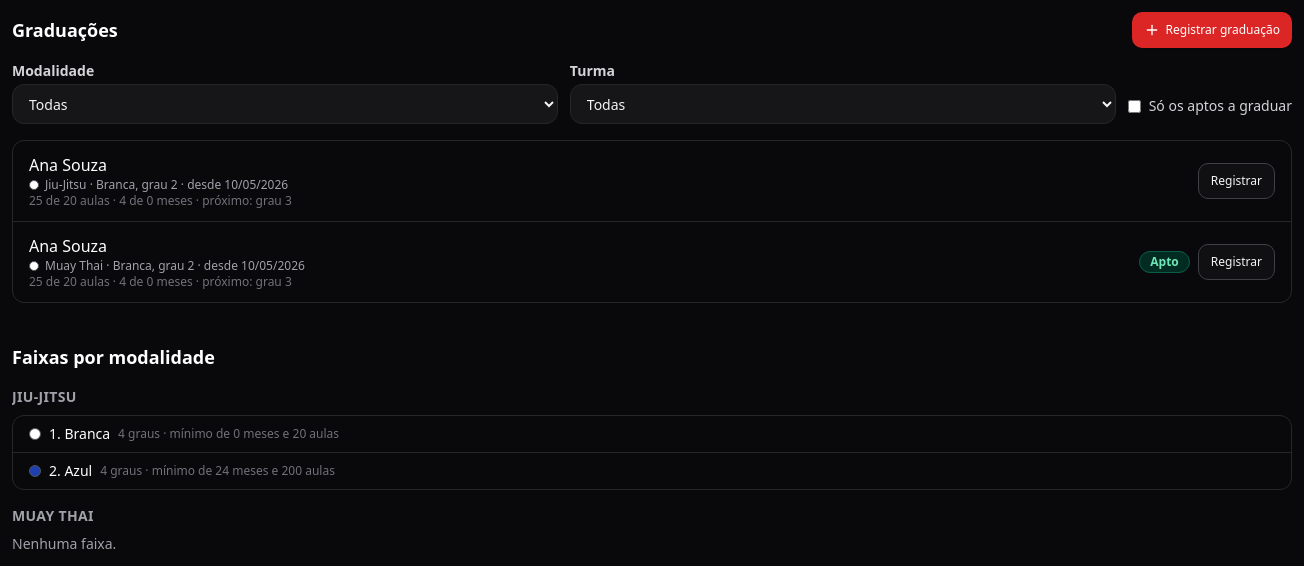
Test case: Painel: graduações › com modalidade em 'Todas', a turma escolhida limita o progresso à modalidade dela
Expected: the list named "Progresso dos alunos" is shown, [12,140,1292,303]
Select "Adulto Noite" in the dropdown labelled "Turma" at (843, 104), box [570,84,1116,124]
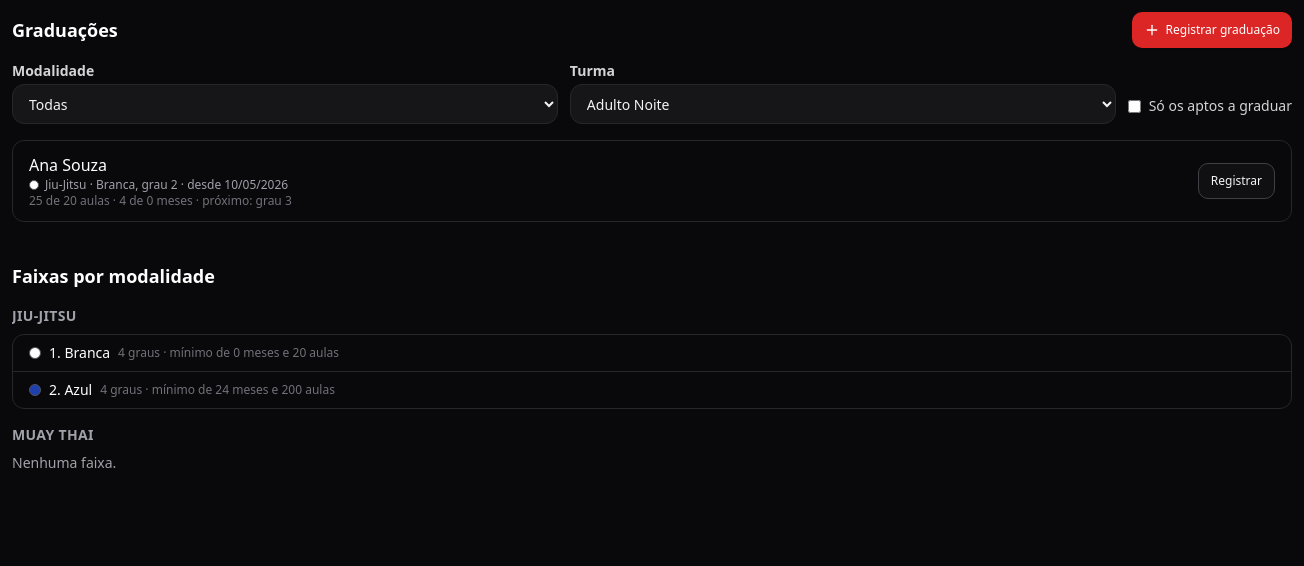
Expected: the list named "Progresso dos alunos" shows "Jiu-Jitsu", [45,176,86,193]
Expected: the list named "Progresso dos alunos" does not show "Muay Thai", [12,140,1292,222]
Note: Só os aptos: Ana não aparece por estar apta em outra modalidade.
Click the checkbox labelled "Só os aptos a graduar".
click(1134, 106)  # box [1128,100,1141,112]
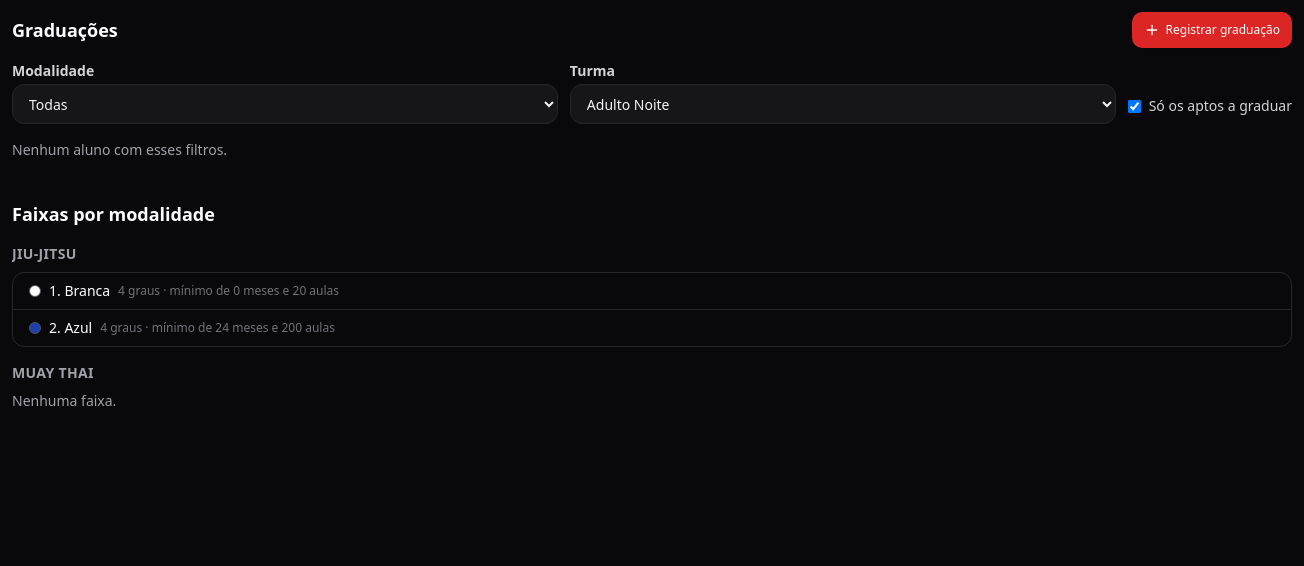
Expected: the text "Nenhum aluno com esses filtros." is shown, [12,140,227,159]
